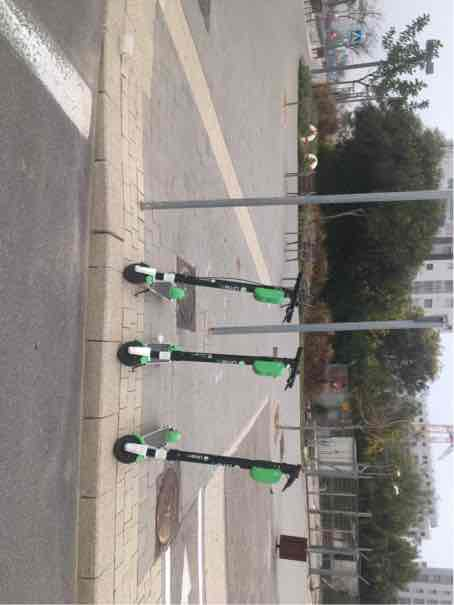too close: (72, 424, 153, 492), (77, 245, 159, 305), (78, 330, 157, 385)
